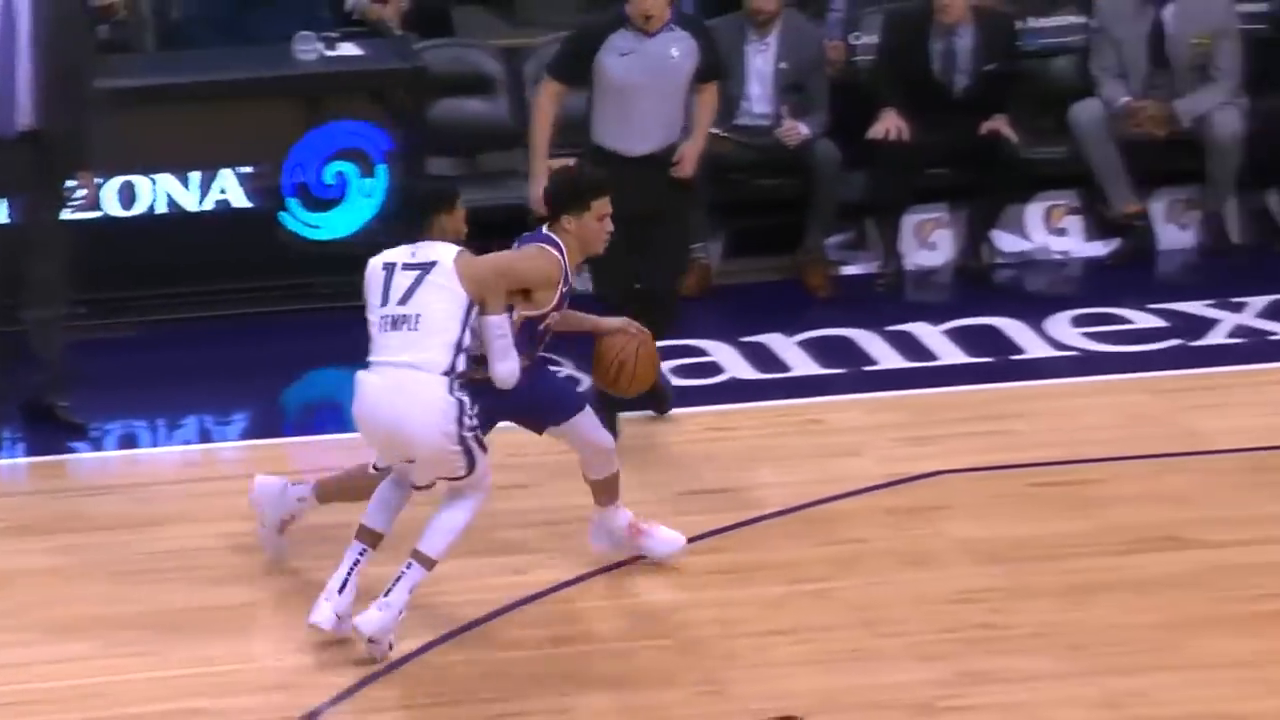ball: (590, 329, 665, 398)
